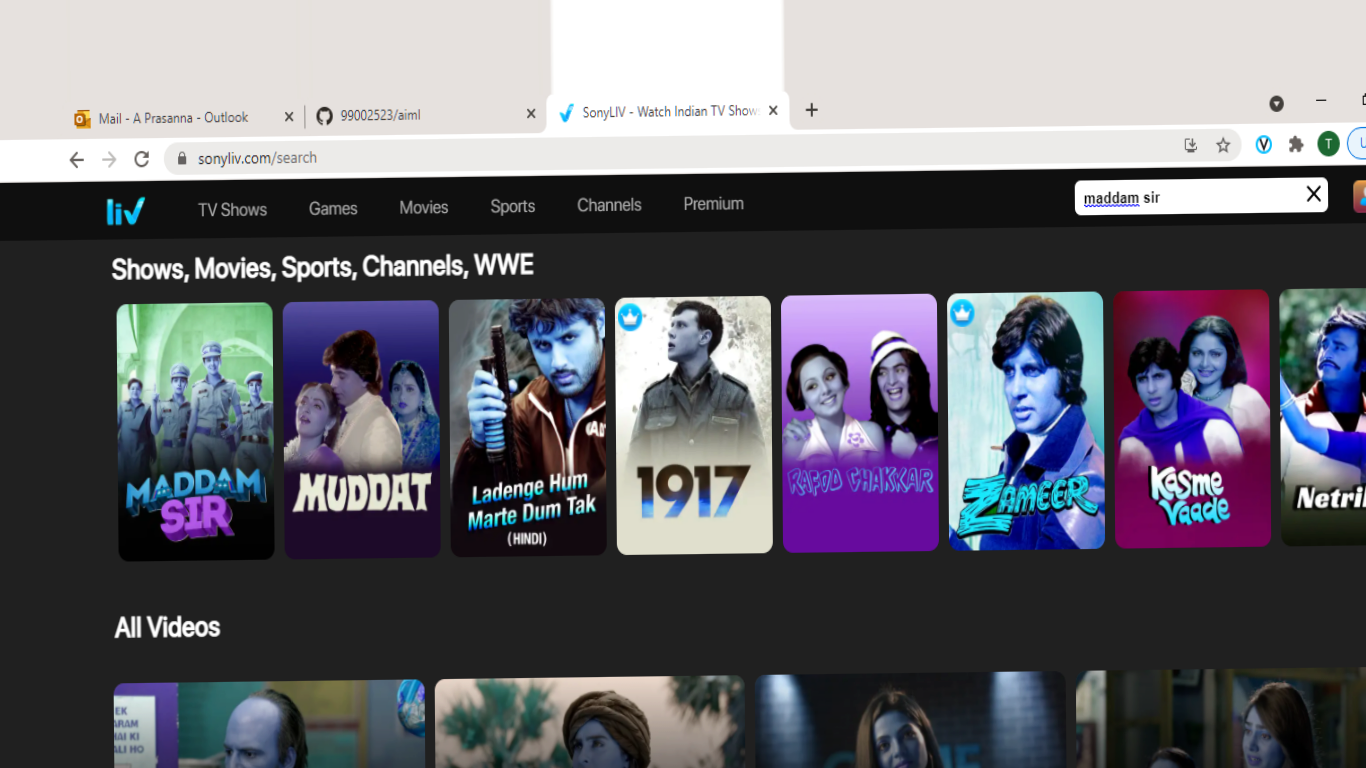profileicon: (1348, 174, 1366, 222)
resultsfound: (104, 242, 548, 305)
searchtextbox: (1061, 175, 1337, 226)
